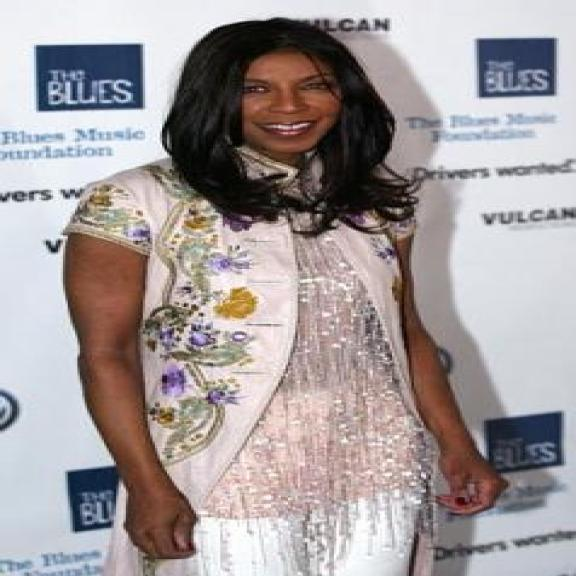face: (212, 37, 350, 158)
